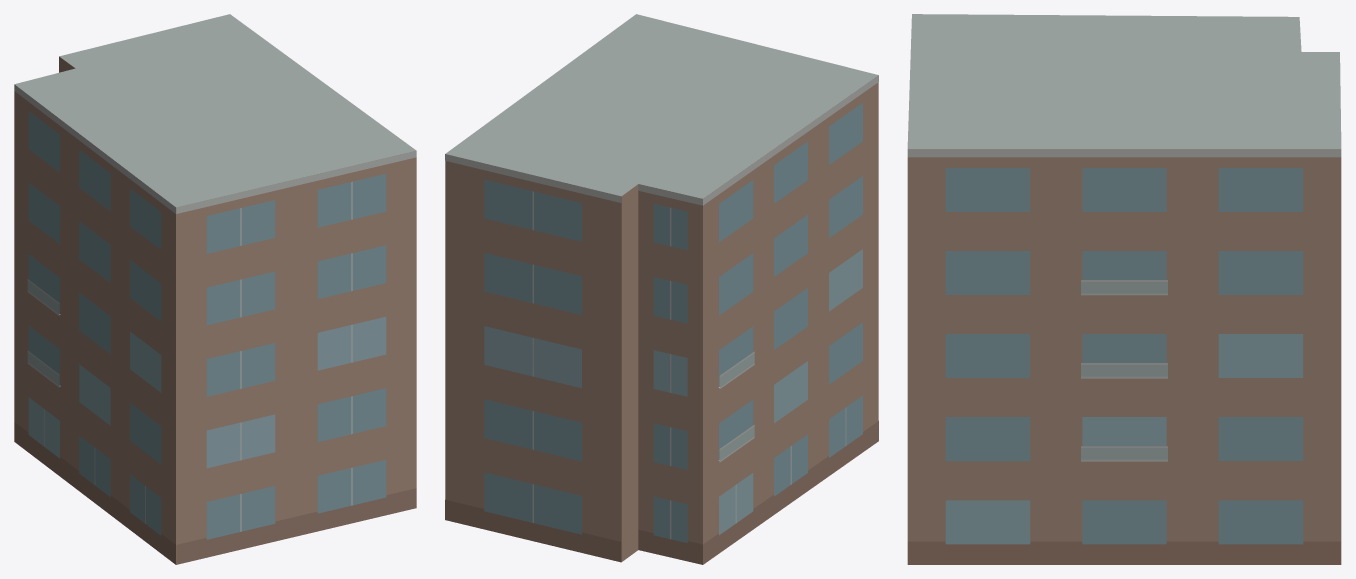
File: survey-upis-32839692.glb
The picture shows the model from 3 angles, left to right: view 1: azimuth 30°, elevation 25°; view 2: azimuth 150°, elevation 25°; view 3: azimuth 270°, elevation 25°; orthographic projection. The views are drawn at different scales.
Parts seen in each view (by area): view 1: survey-upis-32839692.tmp; view 2: survey-upis-32839692.tmp; view 3: survey-upis-32839692.tmp.
Boxes of the visible parts, x1,y1,x2,y2 form: survey-upis-32839692.tmp: [14, 14, 416, 564]; survey-upis-32839692.tmp: [445, 14, 878, 564]; survey-upis-32839692.tmp: [907, 14, 1341, 564].
Size of the model in its own units: 9.2 by 13.1 by 12.41.
